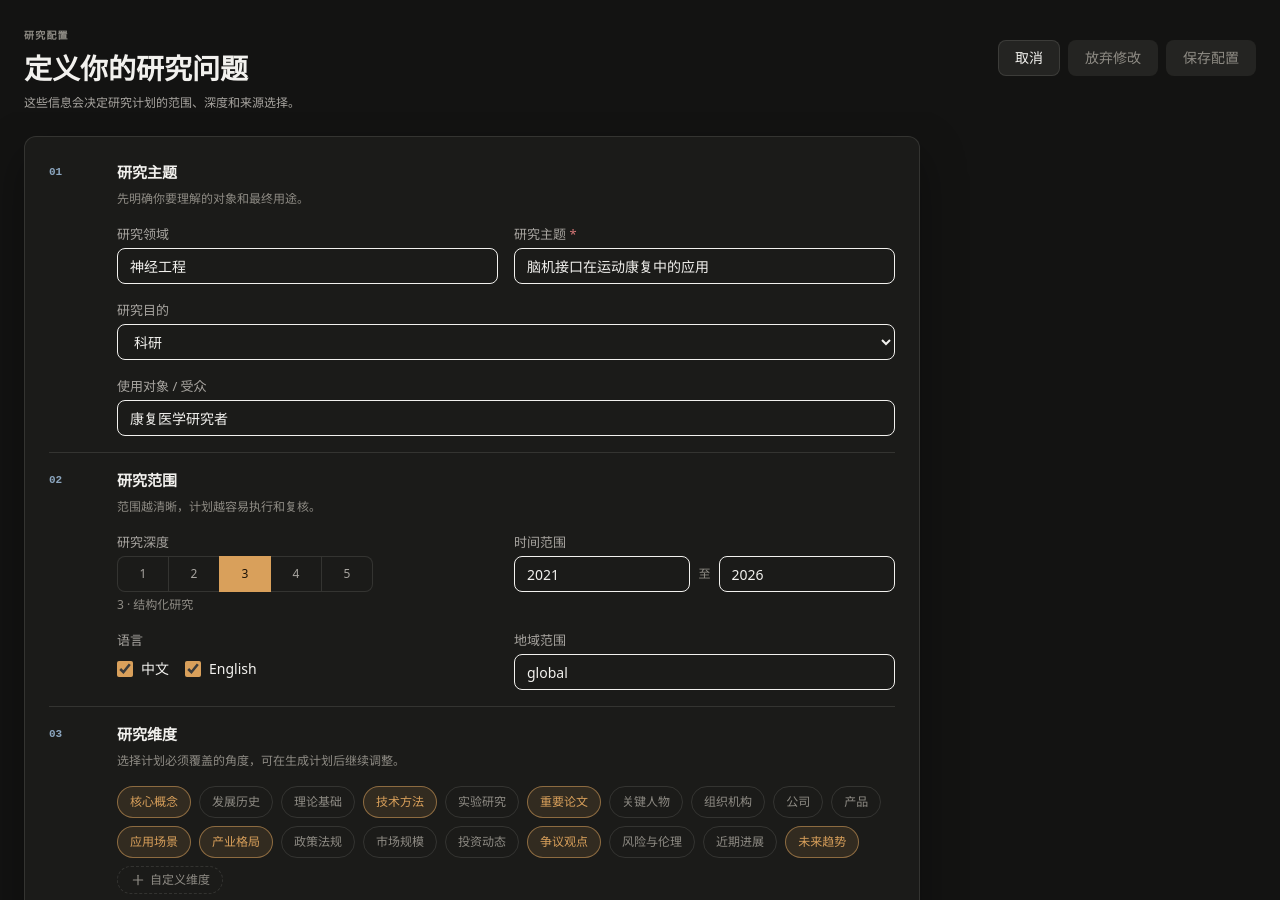
Scenario: ConfigPage (prototype numbered sections) › accepts keystroke-by-keystroke typing in the from-year field
Replace the text in the number field named "开始年份" with "2": (602, 574) [514,556,690,592]
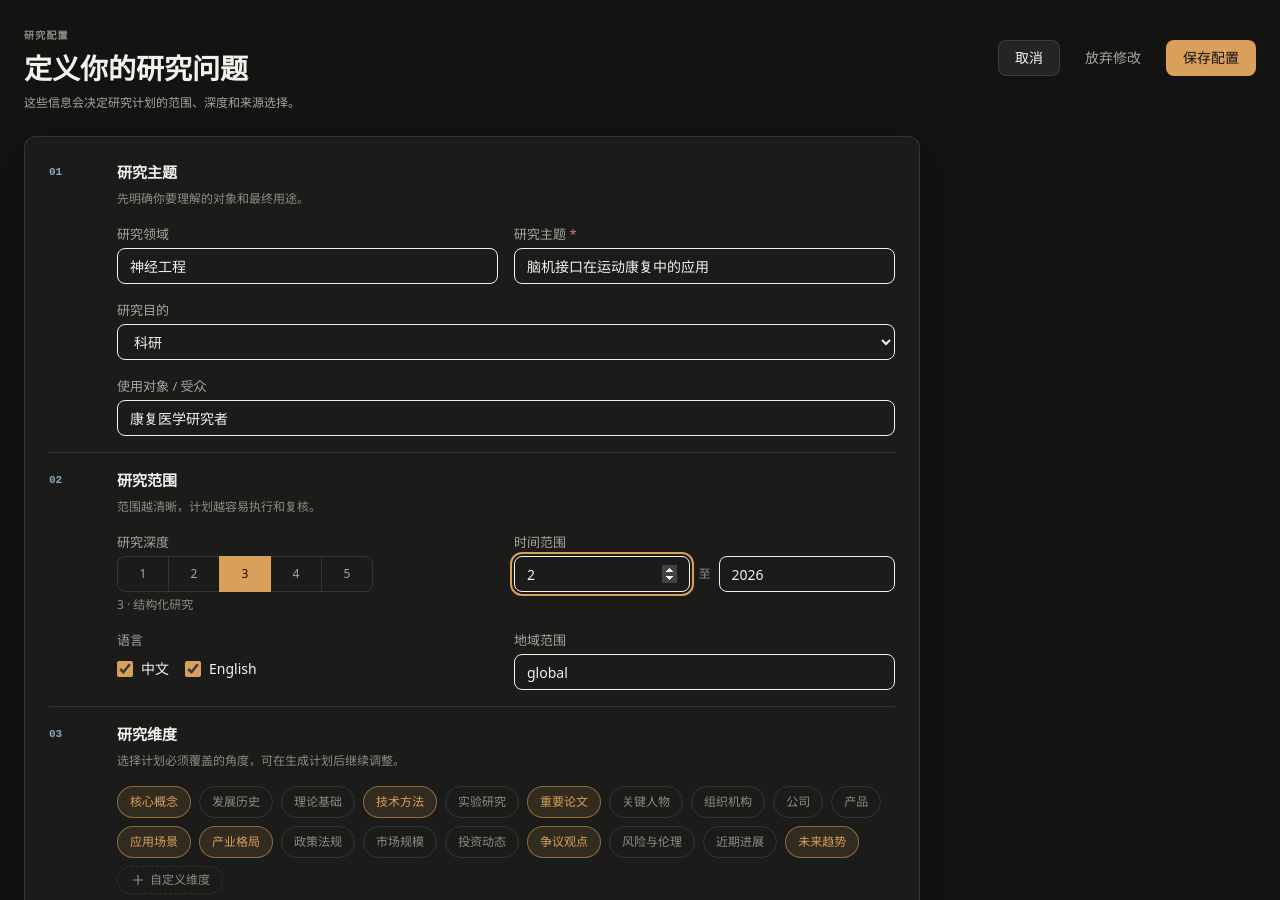
In the number field named "开始年份": (602, 574) [514,556,690,592], type "015"
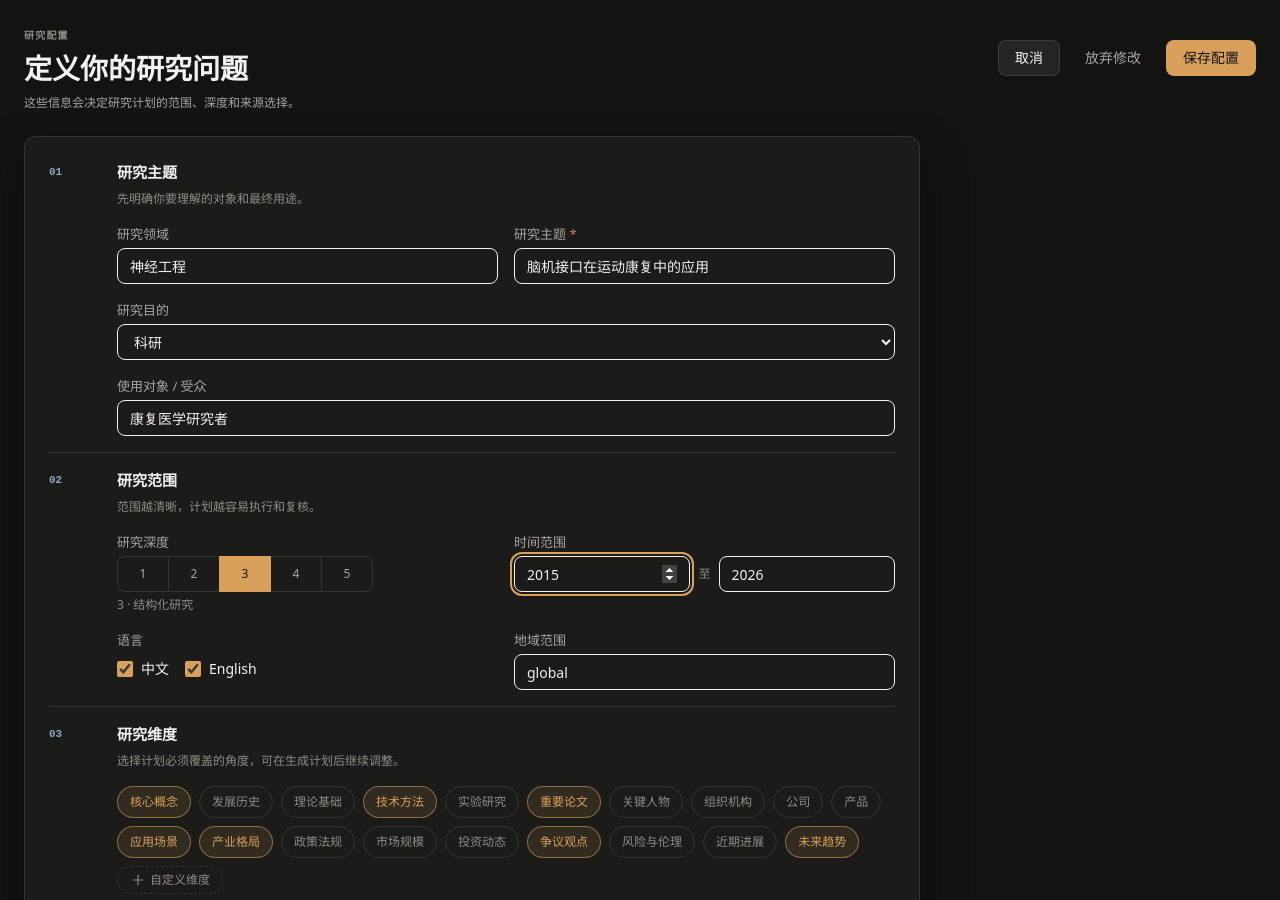
Result: the number field named "开始年份" holds "2015" at [514,556,690,592]
